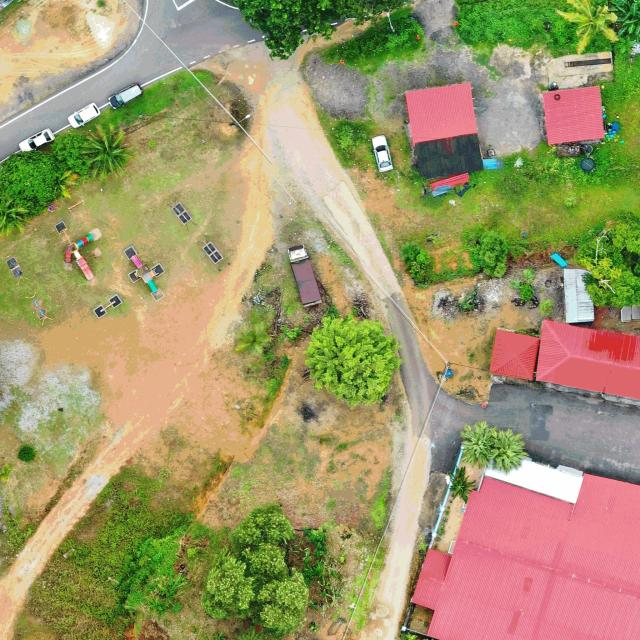Tree: (199, 503, 310, 634), (304, 313, 404, 408), (575, 210, 640, 308), (0, 151, 60, 215), (556, 0, 618, 56), (82, 122, 136, 180), (460, 421, 500, 468), (491, 426, 529, 475), (476, 226, 510, 278), (51, 132, 90, 176), (446, 466, 477, 504), (609, 0, 640, 35), (158, 572, 188, 600), (16, 443, 37, 465)
